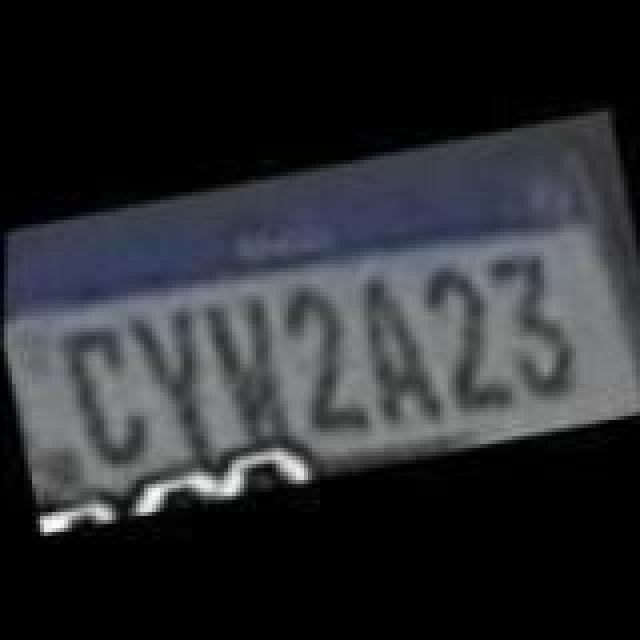2: (260, 272, 380, 452), (404, 246, 520, 422)
3: (476, 232, 592, 400)
A: (336, 256, 448, 440)
C: (52, 314, 148, 470)
W: (190, 274, 306, 454)
Y: (124, 294, 228, 458)
